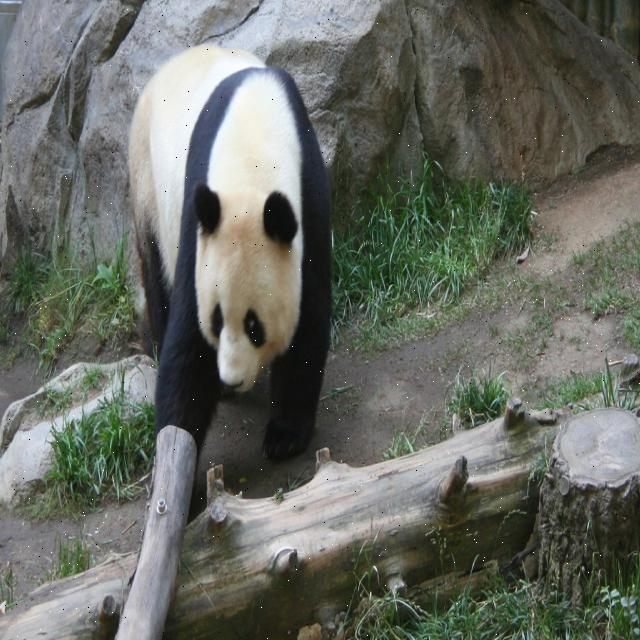panda: (127, 35, 332, 464)
